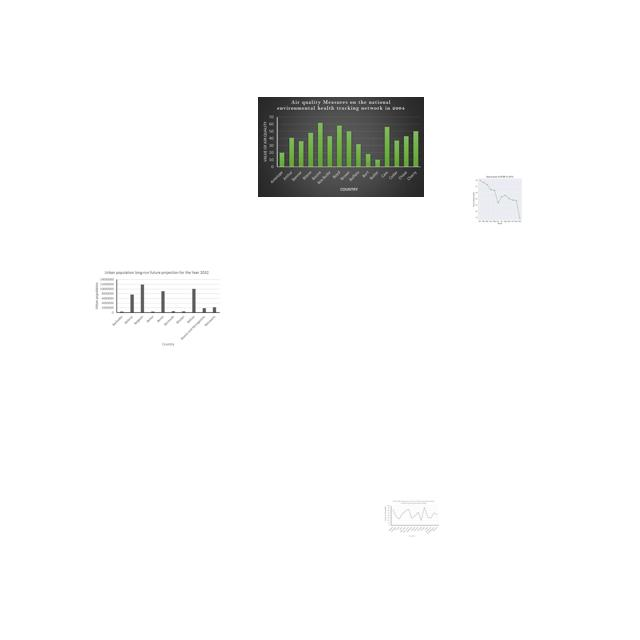Graph: (258, 97, 424, 197), (92, 268, 222, 348), (463, 172, 535, 226), (384, 499, 440, 538)
